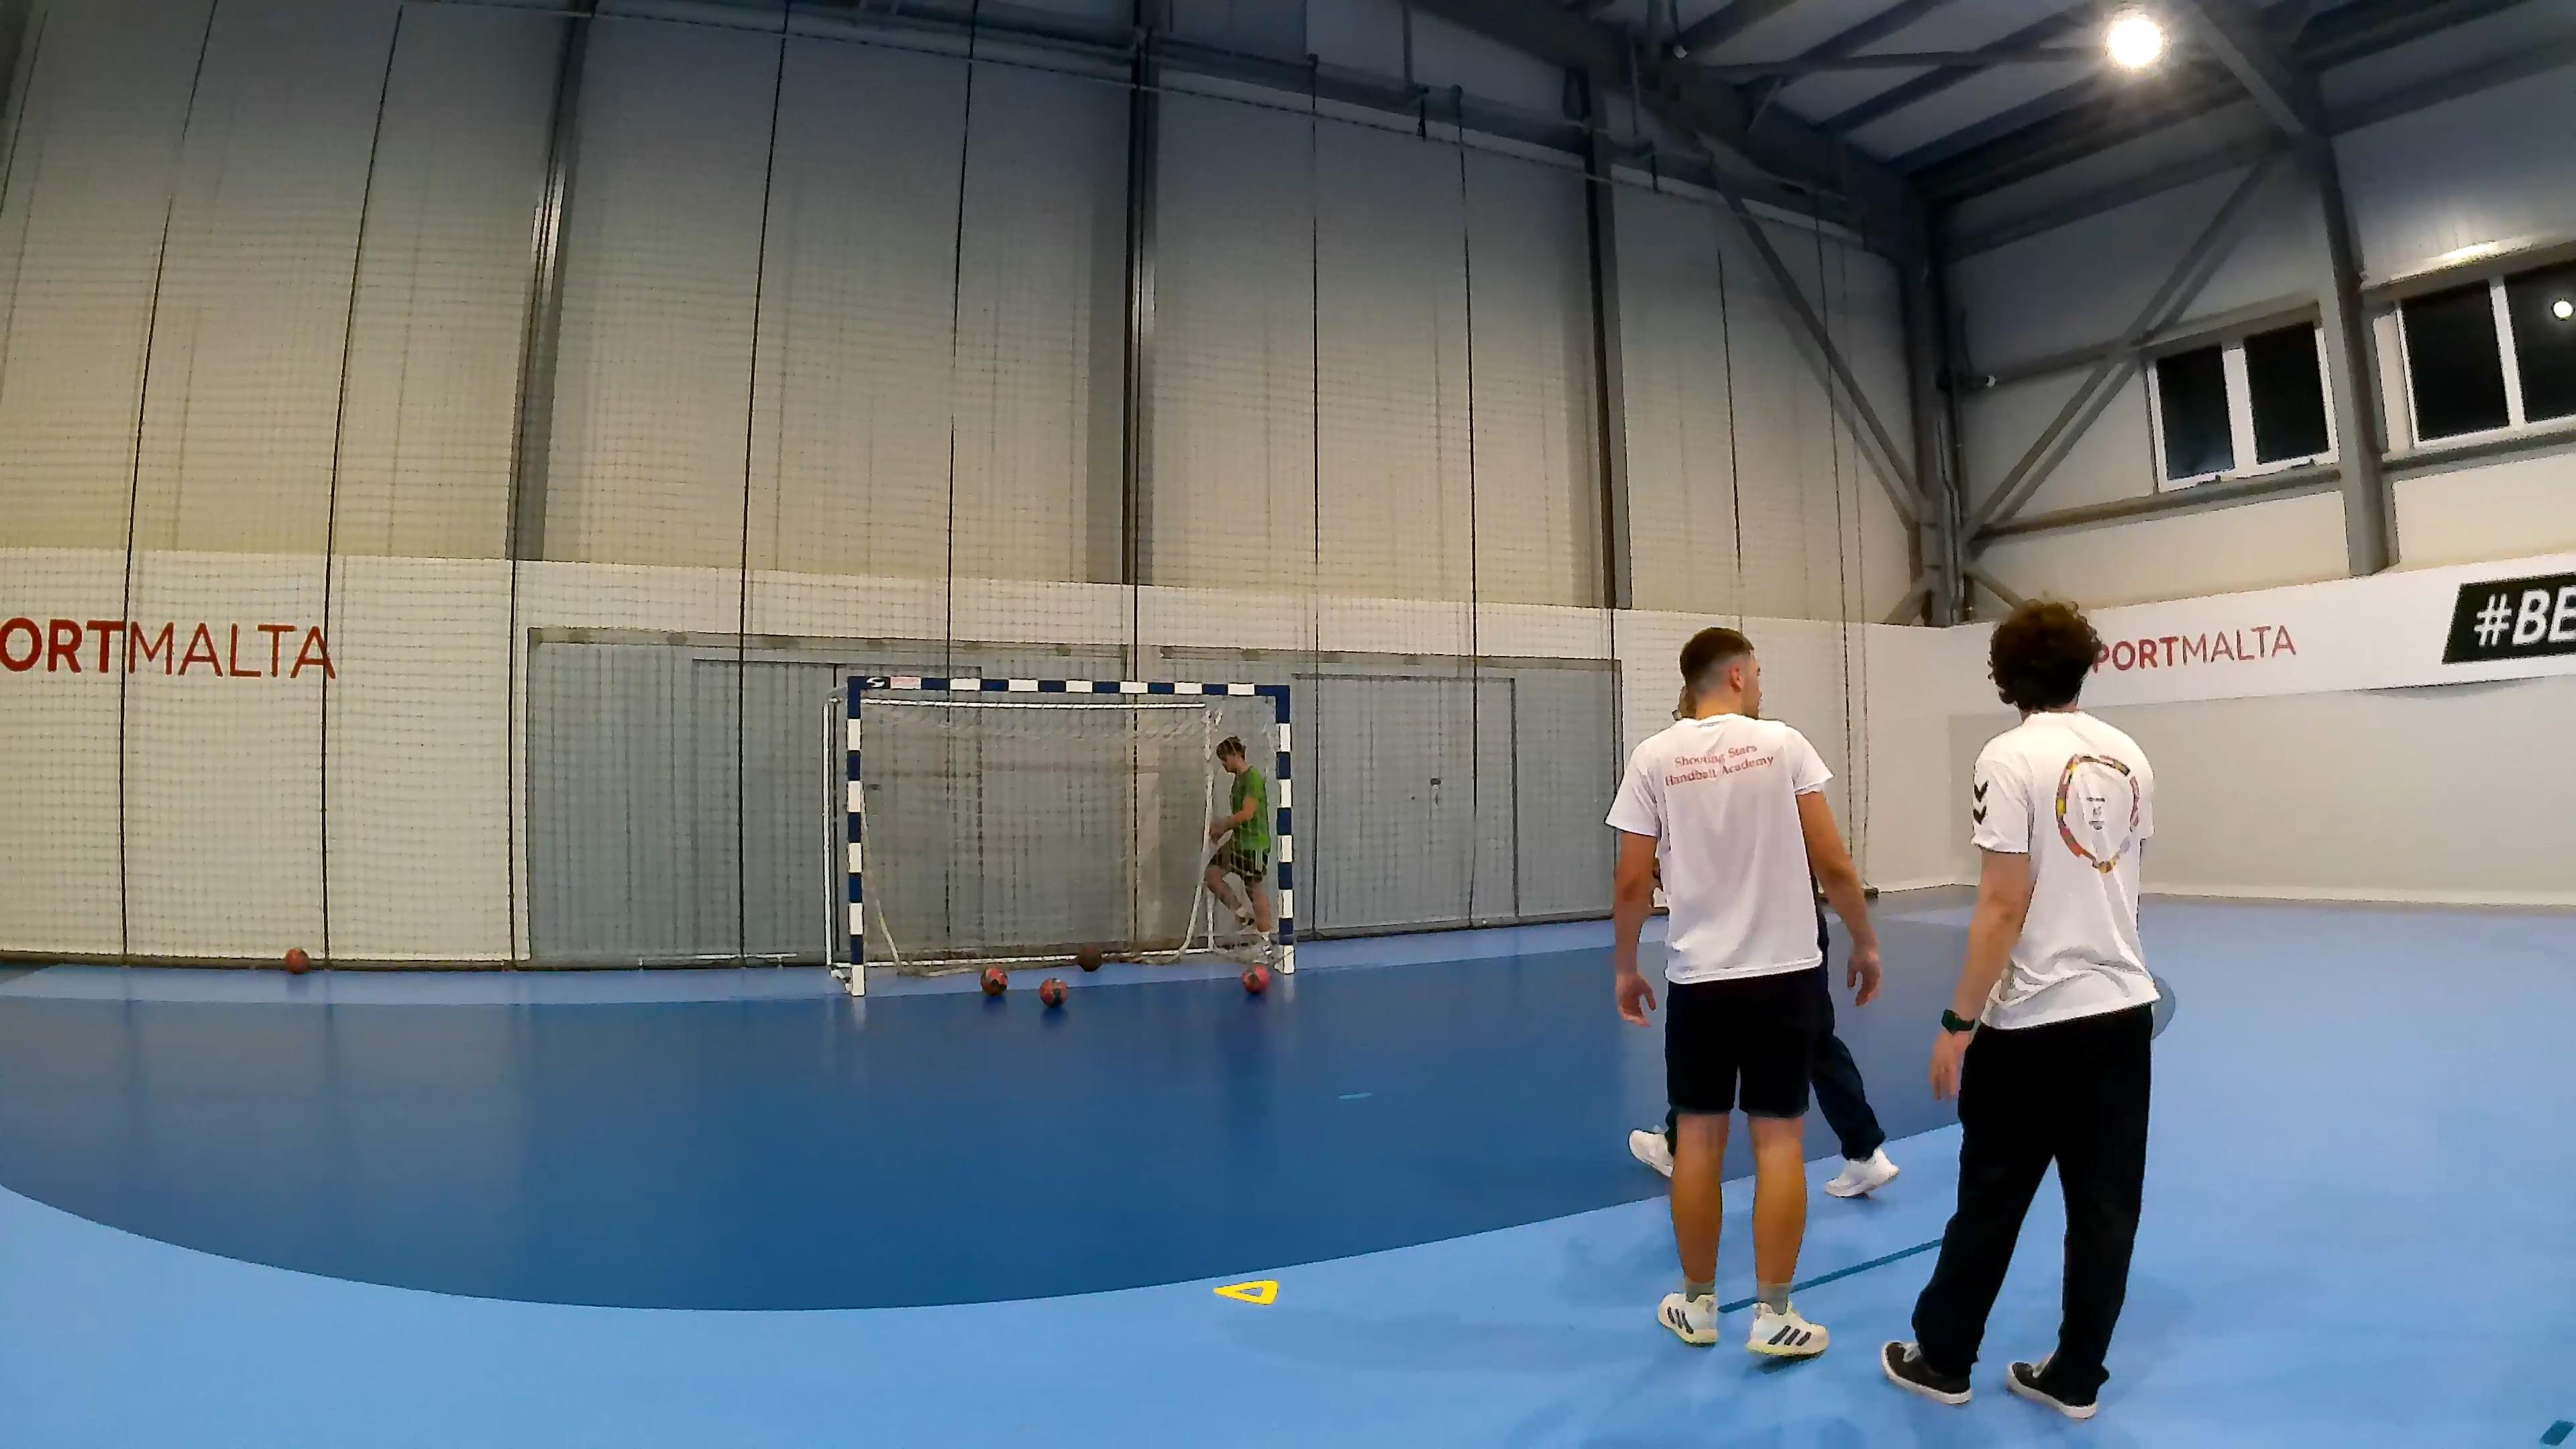handball: (1240, 962, 1269, 993), (1039, 975, 1065, 1005), (980, 964, 1007, 994), (1074, 943, 1100, 971), (283, 947, 308, 973)
